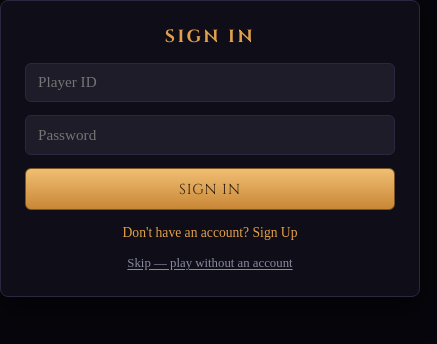
Test: Login component › does not expose raw Firebase error codes in the UI
The width and height of the screenshot is (437, 344).
In the field with placeholder "Player ID": (210, 82) [25,63,395,102], type "player1"
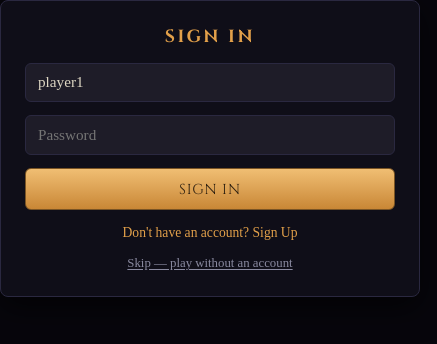
In the password field with placeholder "Password": (210, 135) [25,115,395,155], type "pass"
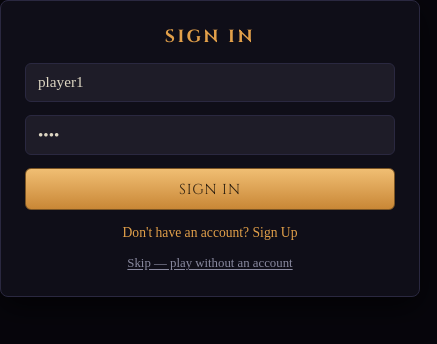
Click the button "Sign In": (210, 189) [25,168,395,210]
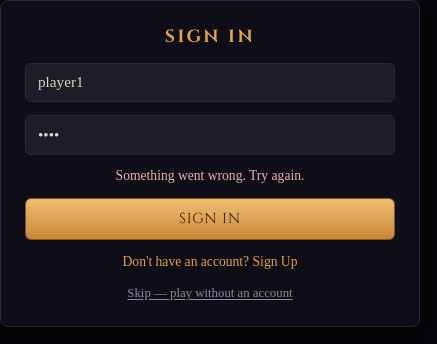
Check: the text "Something went wrong. Try again." is shown, box [116,168,304,183]
